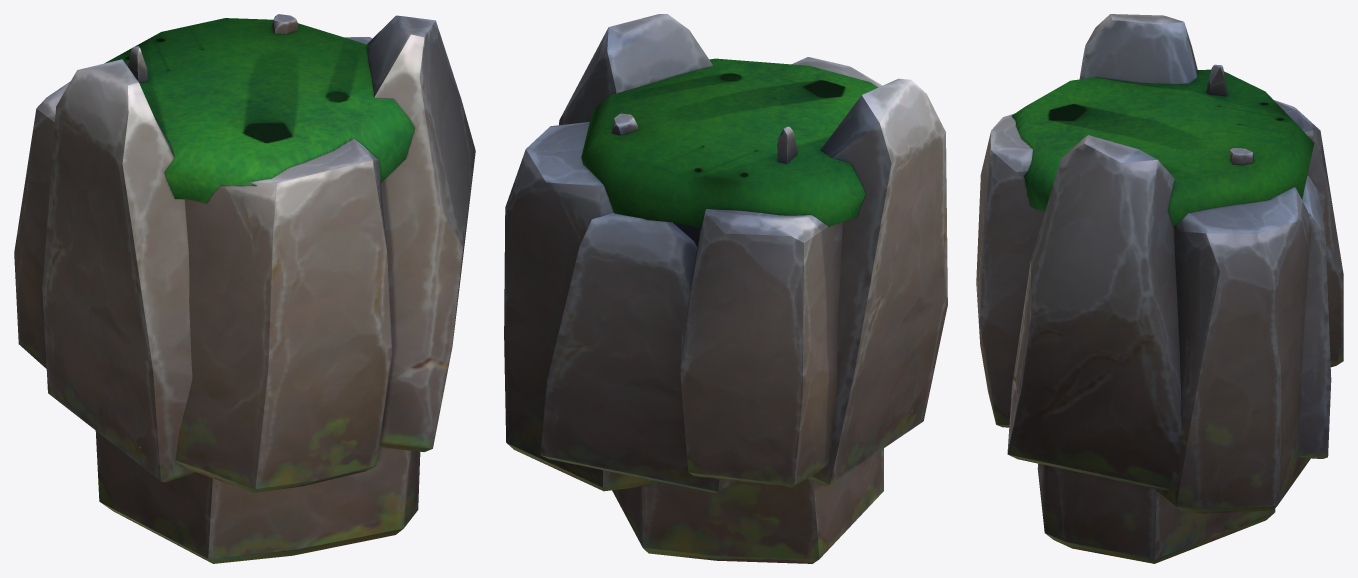
3 views of the same model, side by side, from view 1: azimuth 30°, elevation 25°; view 2: azimuth 150°, elevation 25°; view 3: azimuth 270°, elevation 25° (orthographic). The views are drawn at different scales.
Parts seen in each view (by area): view 1: island_1; view 2: island_1; view 3: island_1.
Part boxes in pixels (x1,y1,x2,y2): island_1: (14, 14, 475, 563); island_1: (504, 14, 947, 563); island_1: (976, 14, 1343, 563).
Size of the model in its own units: 9.68 by 11.92 by 9.16.
1 material, 1 textured.
